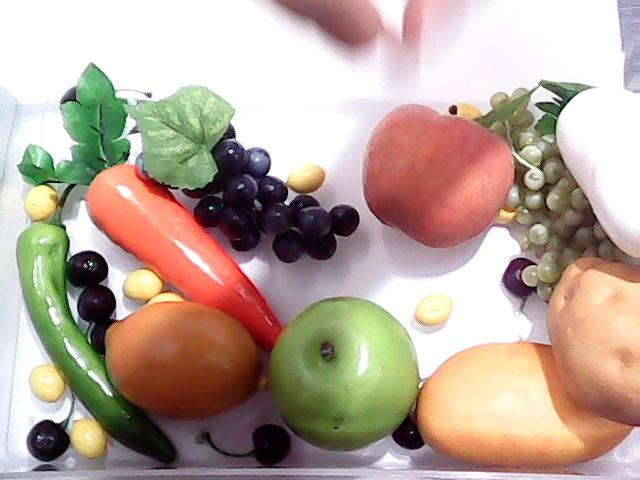apple: (250, 296, 422, 456)
carrot: (16, 61, 286, 351)
grape: (197, 112, 373, 260), (502, 81, 618, 271)
lemon: (90, 291, 286, 433)
mango: (415, 342, 640, 468)
peach: (360, 104, 516, 248)
pepper: (14, 175, 186, 465)
potato: (547, 255, 640, 426)
radish: (536, 77, 640, 255)
